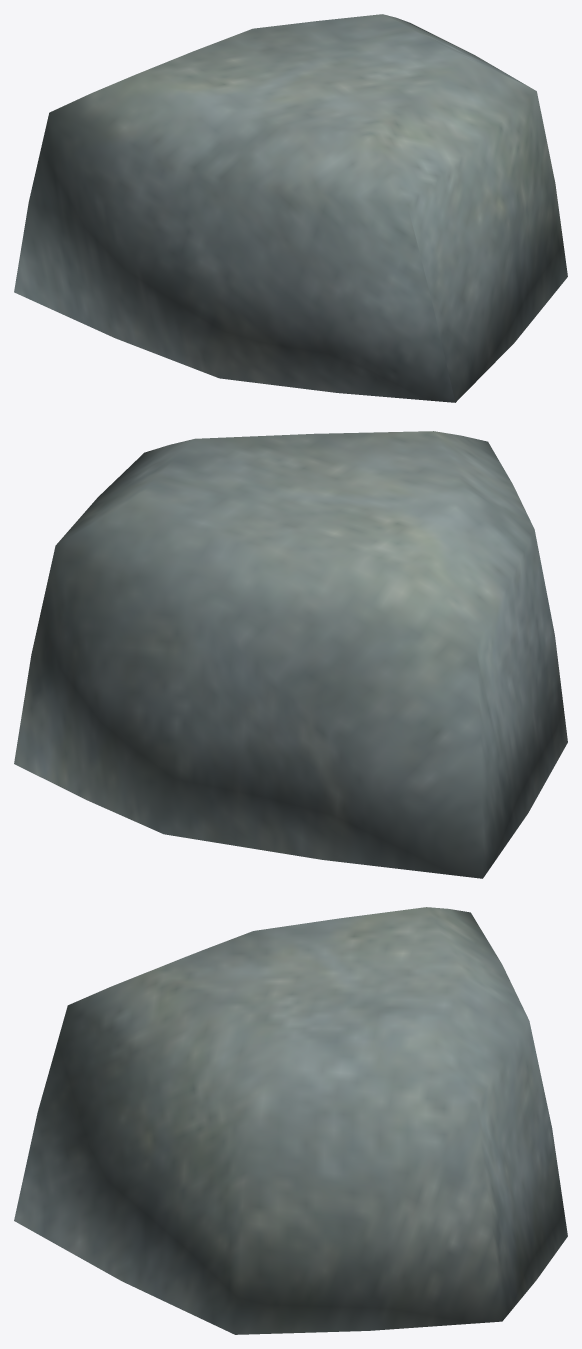
Rendered from rocks_014.fbx.
3 renders of one model, top to bottom at view 1: azimuth 30°, elevation 25°; view 2: azimuth 150°, elevation 25°; view 3: azimuth 270°, elevation 25°, orthographic. The views are drawn at different scales.
Visible parts, largest first — view 1: rocks.014; view 2: rocks.014; view 3: rocks.014.
Part boxes in pixels (x1=…): rocks.014: x1=14, y1=14, x2=567, y2=402; rocks.014: x1=14, y1=431, x2=567, y2=878; rocks.014: x1=14, y1=907, x2=567, y2=1334.
Size of the model in its own units: 132 by 69.15 by 134.
